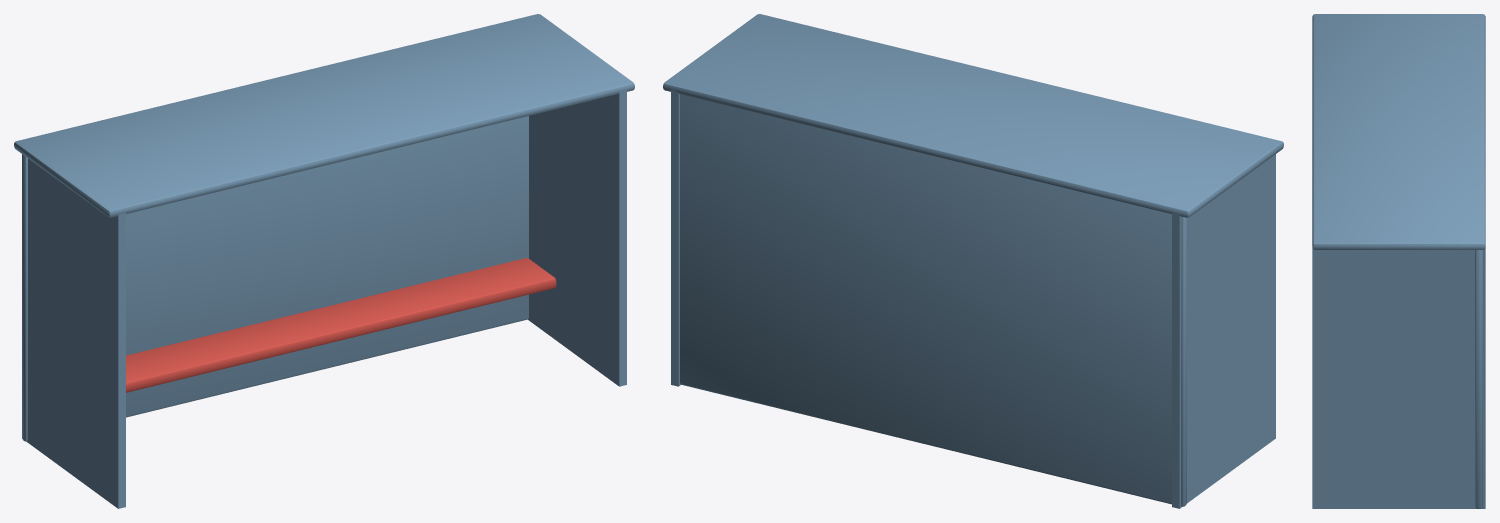
Rendered from banc_touche.glb.
3 views of the same model, side by side, from view 1: azimuth 30°, elevation 25°; view 2: azimuth 150°, elevation 25°; view 3: azimuth 270°, elevation 25° (orthographic). The views are drawn at different scales.
Parts seen in each view (by area): view 1: banc_touche; view 2: banc_touche; view 3: banc_touche.
Boxes of the visible parts, <box> form: banc_touche: <box>14,14,634,508</box>; banc_touche: <box>663,14,1283,508</box>; banc_touche: <box>1312,14,1485,508</box>.
Size of the model in its own units: 4.1 by 2.23 by 1.3.
